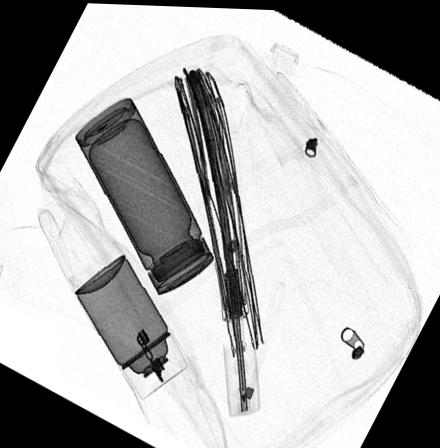Sprayer: (73, 253, 188, 400)
